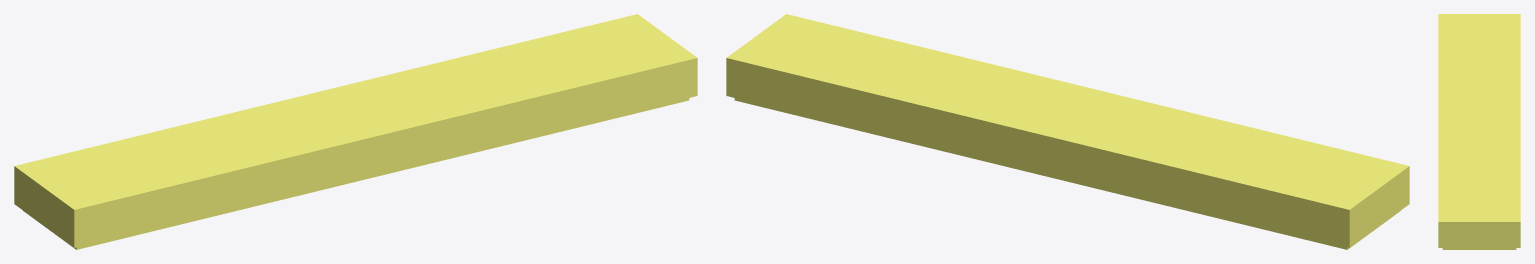
3 renders of one model, left to right at view 1: azimuth 30°, elevation 25°; view 2: azimuth 150°, elevation 25°; view 3: azimuth 270°, elevation 25°, orthographic. The views are drawn at different scales.
Parts seen in each view (by area): view 1: 6636.dat; view 2: 6636.dat; view 3: 6636.dat.
Boxes of the visible parts, x1,y1,x2,y2 form: 6636.dat: (14, 14, 697, 249); 6636.dat: (726, 14, 1409, 249); 6636.dat: (1438, 14, 1520, 249).
Size of the model in its own units: 0.048 by 0.0032 by 0.008.
